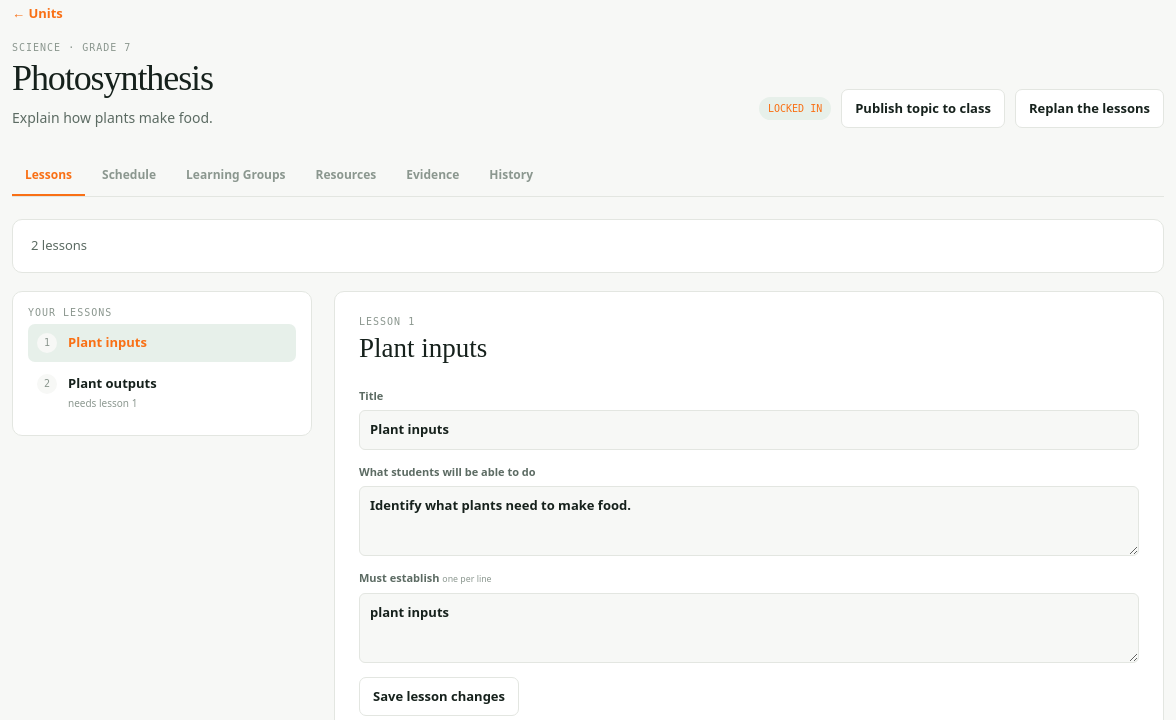
/units/[id] › keeps lessons view when an optional tab endpoint fails
The image size is (1176, 720).
Check: the field showing "Plant inputs" is shown, box [359,410,1139,450]
Click the button "Learning Groups" at (236, 176), box [173,156,299,196]
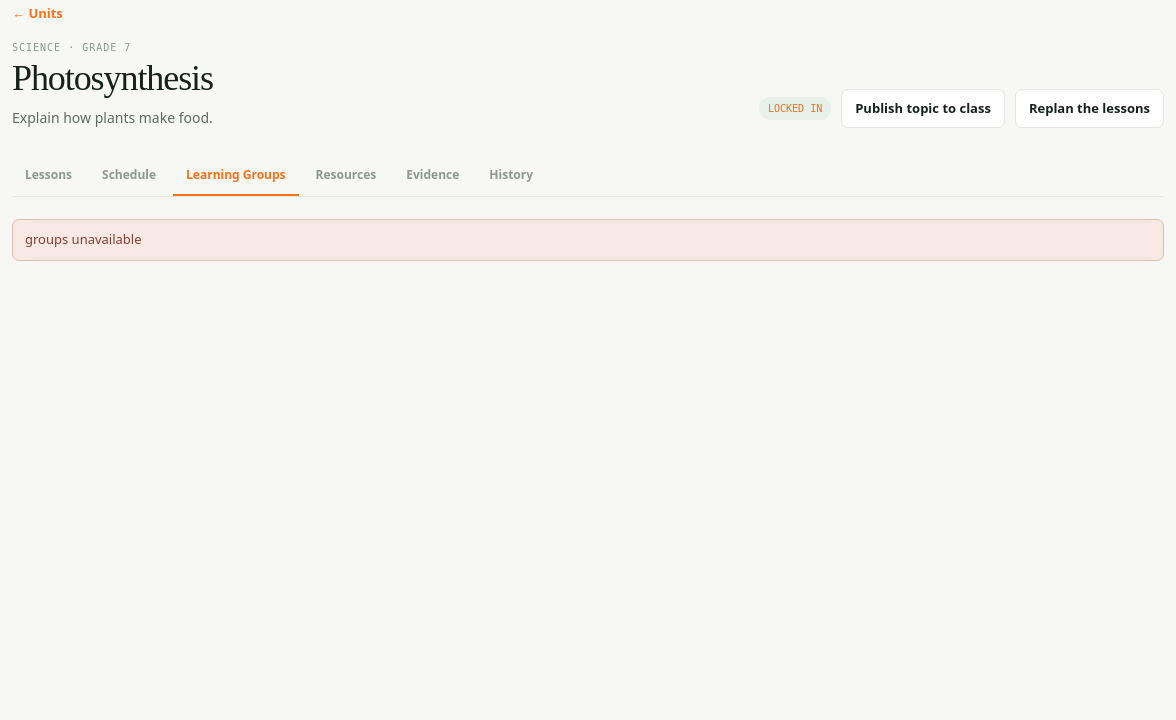
Check: the text "groups unavailable" is shown, box [12,219,1164,261]
Click the button "Lessons" at (49, 176), box [12,156,85,196]
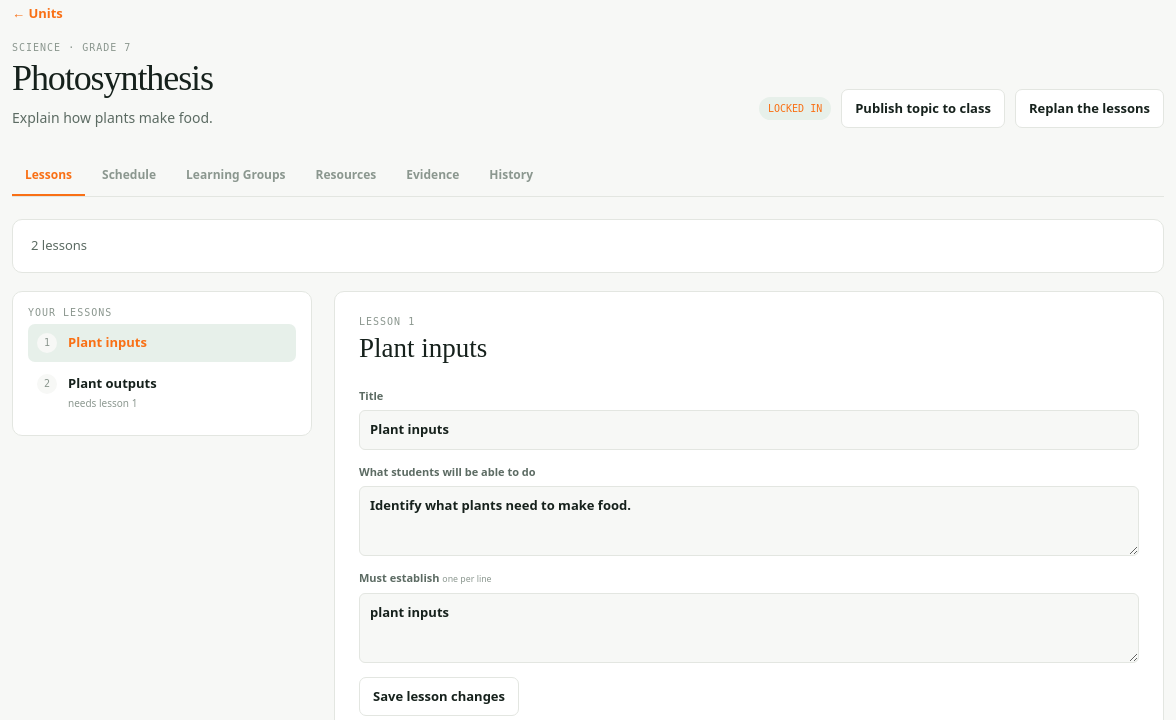
Check: the field showing "Plant inputs" is shown, box [359,410,1139,450]
